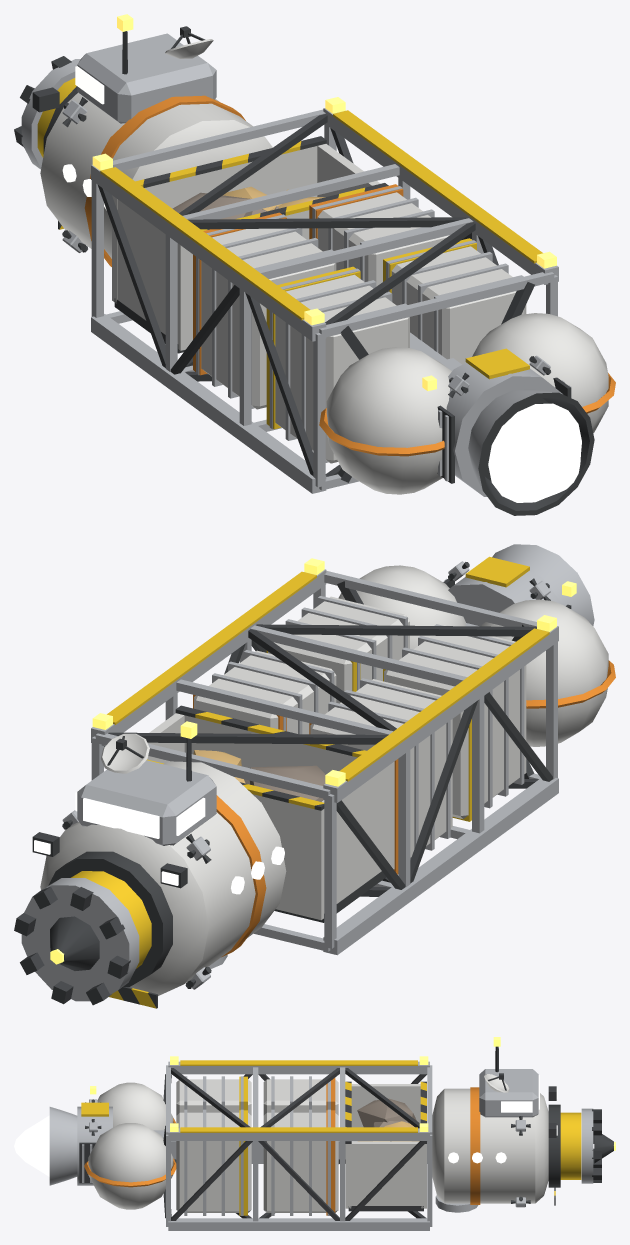
Rendered from miner.glb.
3 renders of one model, top to bottom at view 1: azimuth 30°, elevation 25°; view 2: azimuth 150°, elevation 25°; view 3: azimuth 270°, elevation 25°, orthographic. The views are drawn at different scales.
Parts seen in each view (by area): view 1: miner_hull, miner_hold, engine_glow; view 2: miner_hull, miner_hold; view 3: miner_hull, miner_hold, engine_glow.
Part boxes in pixels (box(x1,y1,x2,y2)): miner_hull: box(14, 14, 615, 515); miner_hold: box(112, 136, 526, 463); engine_glow: box(488, 403, 581, 502); miner_hull: box(14, 544, 615, 1008); miner_hold: box(147, 596, 526, 922); miner_hull: box(49, 1037, 615, 1230); miner_hold: box(176, 1076, 426, 1215); engine_glow: box(14, 1115, 49, 1176).
Size of the model in its own units: 4.76 by 4.34 by 15.2.
